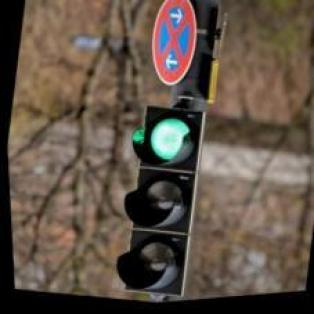Semaforo Verde: (102, 104, 209, 300)
